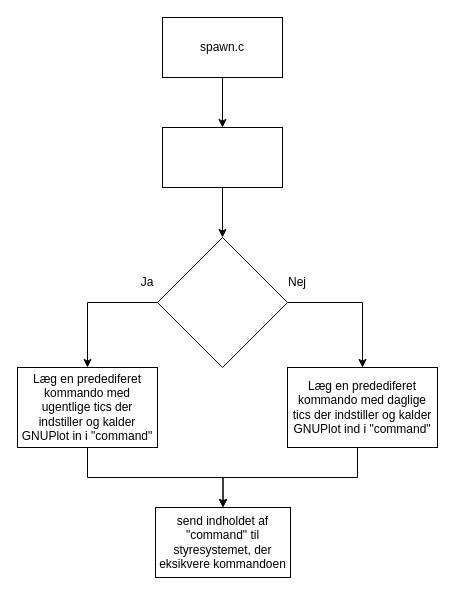
This 455x595 diagram has some shape labels left out. Here are the shapes that lost their labels. From the top down, the centre of each, then its label:
the point at 222,157: Alloker en streng "command" med en udvidet buffer
the point at 222,302: Er "mtTwoWeeks" flaget sat til true?
